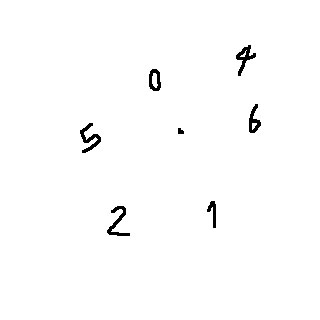.: (170, 126, 190, 137)
0: (137, 66, 166, 100)
1: (202, 195, 222, 239)
2: (102, 202, 138, 244)
4: (231, 41, 263, 82)
5: (70, 122, 111, 159)
6: (239, 104, 271, 143)
